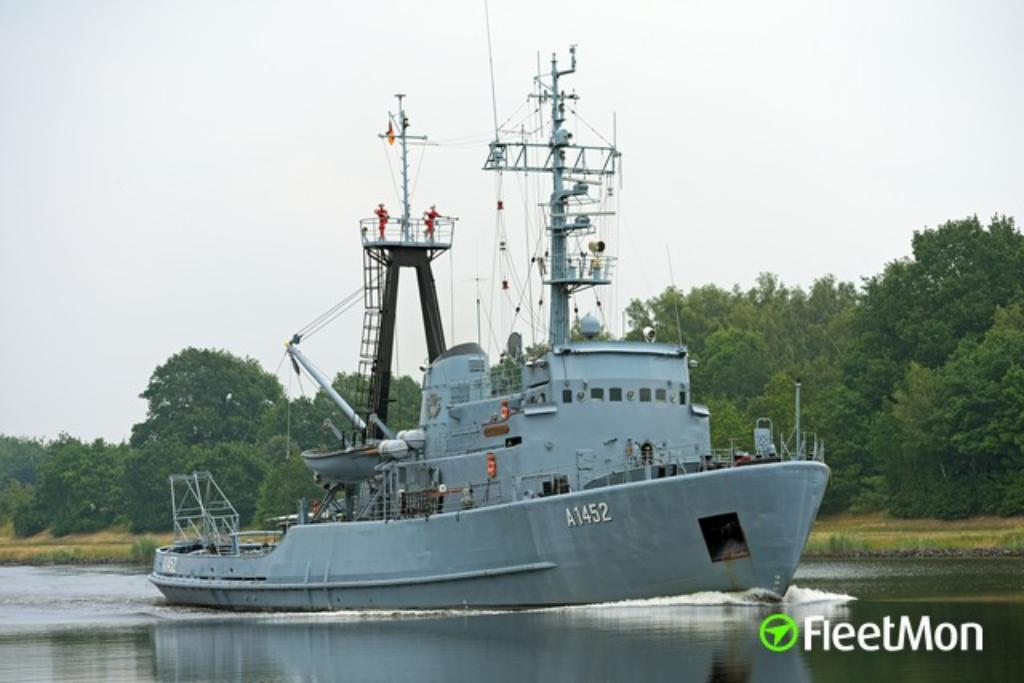Warship: (148, 43, 832, 613)
